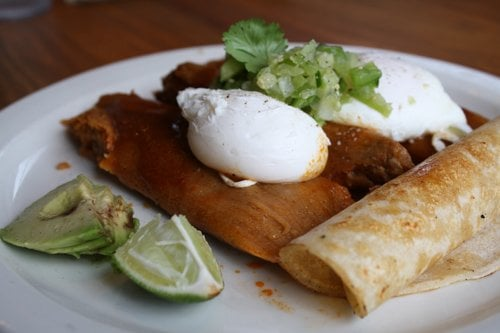soup: (275, 114, 500, 319)
